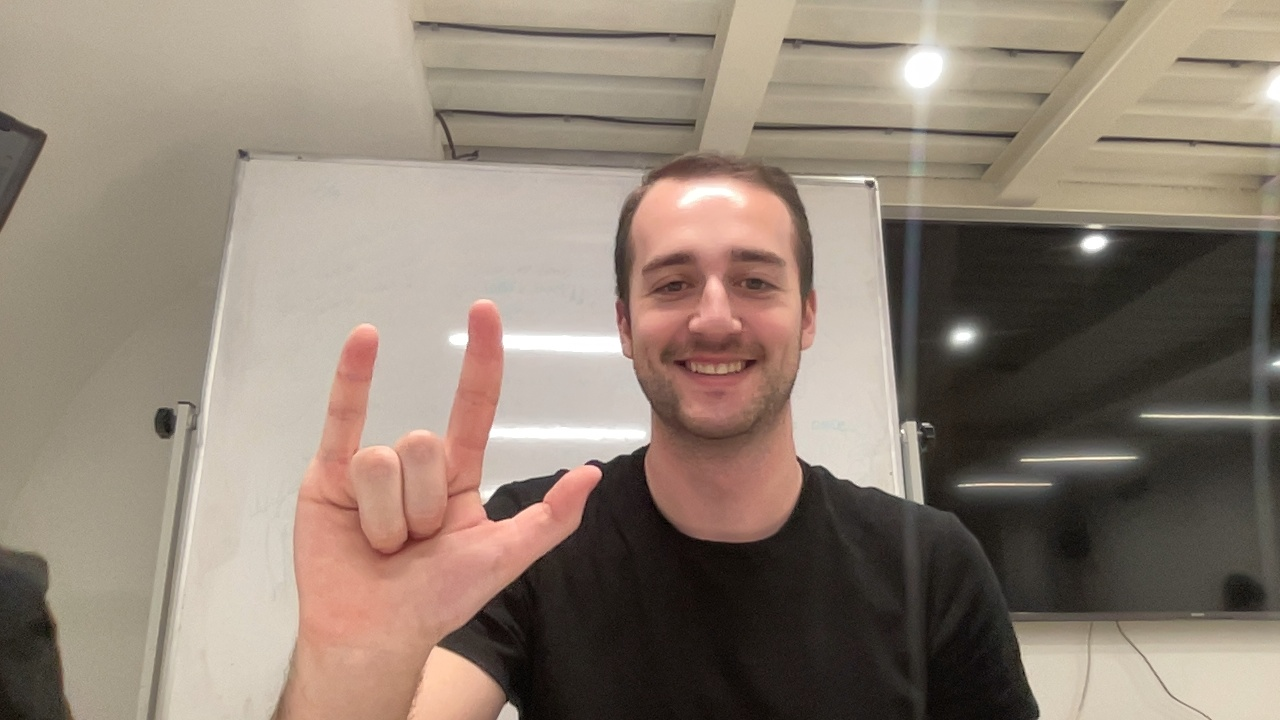I Love You: (290, 291, 603, 664)
